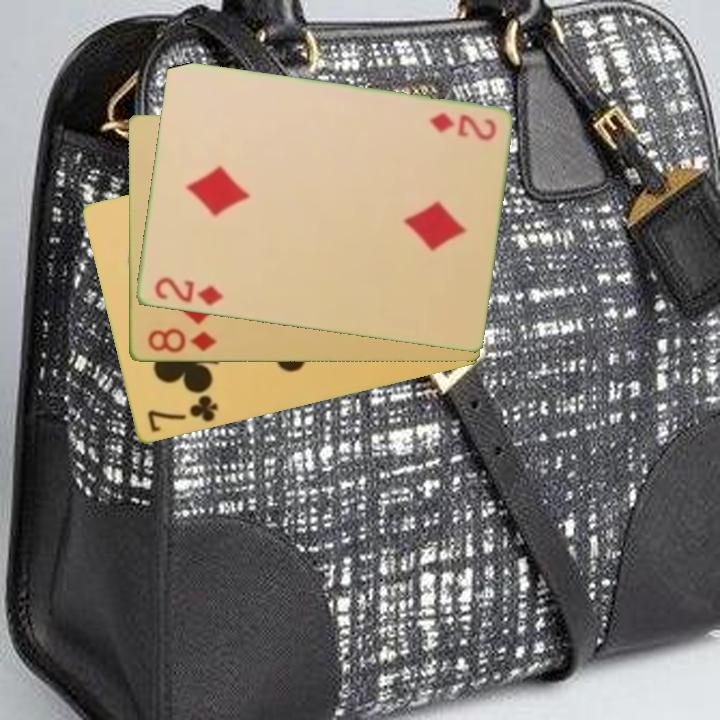2d: (150, 274, 225, 309), (425, 109, 499, 143)
7c: (143, 392, 221, 436)
8d: (144, 325, 219, 356)
